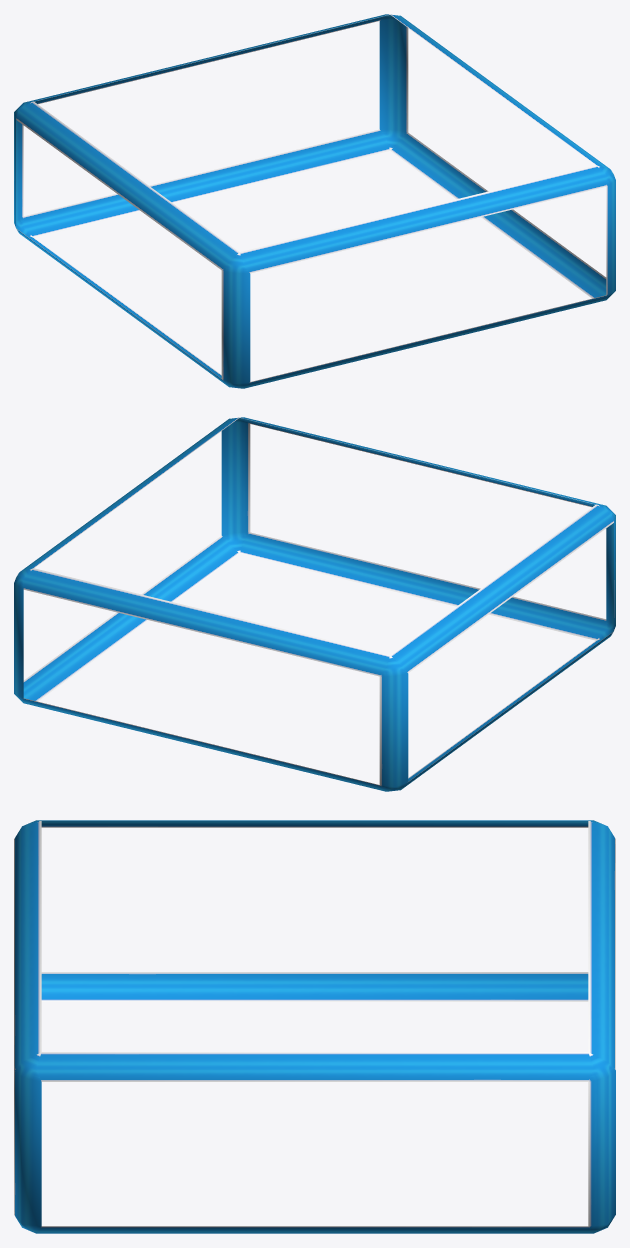
The model's file is ts_buzery001.FBX.
3 views of the same model, one above another, from view 1: azimuth 30°, elevation 25°; view 2: azimuth 150°, elevation 25°; view 3: azimuth 270°, elevation 25° (orthographic). The views are drawn at different scales.
Parts seen in each view (by area): view 1: ts_buzery001; view 2: ts_buzery001; view 3: ts_buzery001.
Boxes of the visible parts, bbox=[...] form: ts_buzery001: bbox=[14, 14, 615, 388]; ts_buzery001: bbox=[14, 417, 615, 791]; ts_buzery001: bbox=[14, 820, 615, 1233].
Bounding box in the file's own units: 2.26 × 0.7506 × 2.26.
